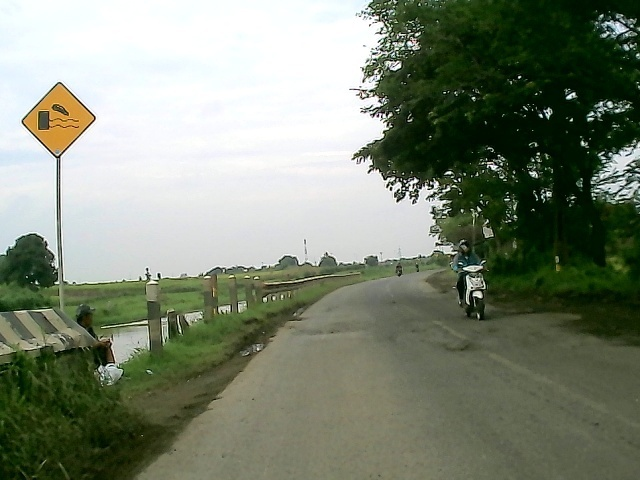Peringatan tepi air: (17, 79, 99, 161)
